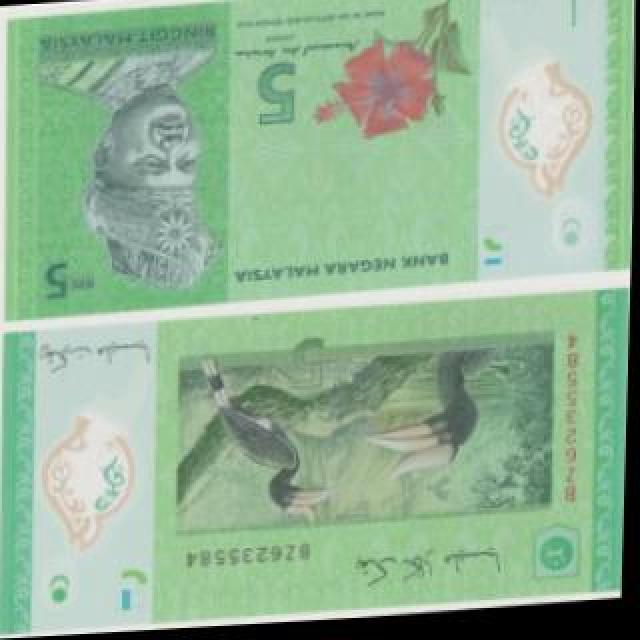5 Ringgit: (0, 286, 633, 629), (0, 0, 639, 313)
